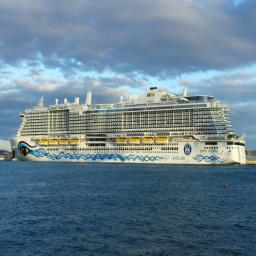cruises: (11, 84, 247, 168)
